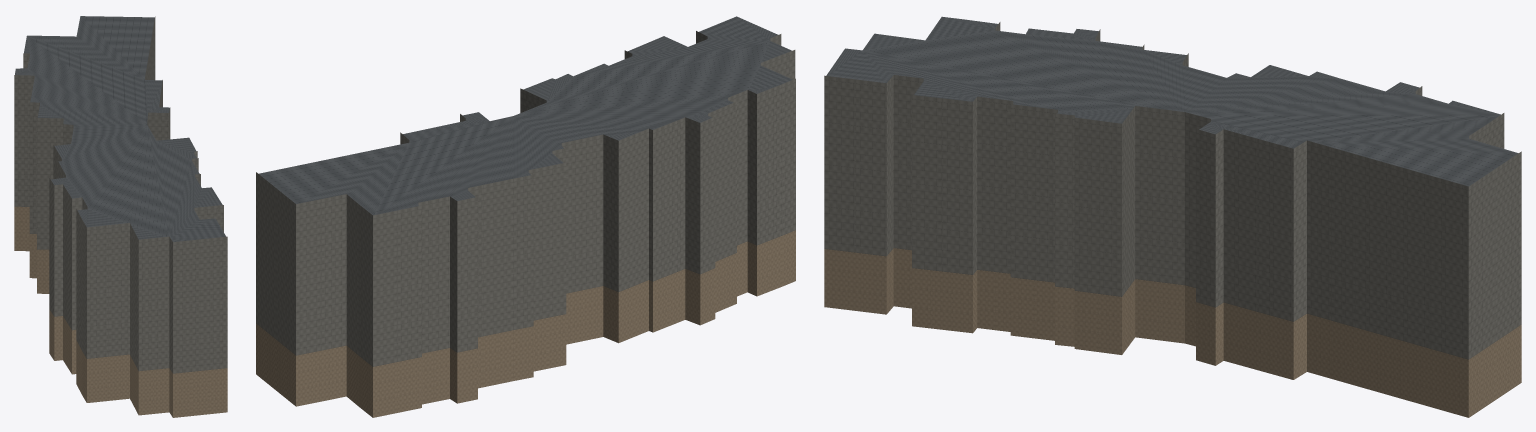
Rendered from core_0103.gltf.
3 renders of one model, left to right at view 1: azimuth 30°, elevation 25°; view 2: azimuth 150°, elevation 25°; view 3: azimuth 270°, elevation 25°, orthographic. The views are drawn at different scales.
Visible parts, largest first — view 1: core_0103; view 2: core_0103; view 3: core_0103.
Part boxes in pixels (<box>): core_0103: <box>14,16,227,417</box>; core_0103: <box>256,16,795,417</box>; core_0103: <box>824,16,1521,417</box>.
Bounding box in the file's own units: 32.42 × 20.28 × 55.37.
Materials: 3 (3 with a texture image).
